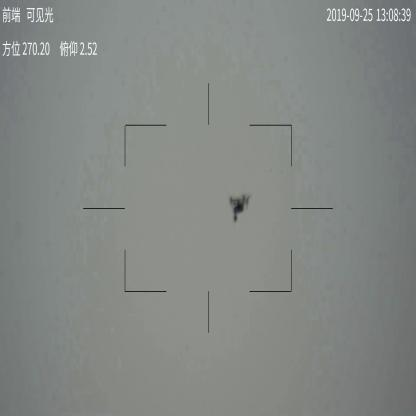uav: (226, 192, 252, 224)
